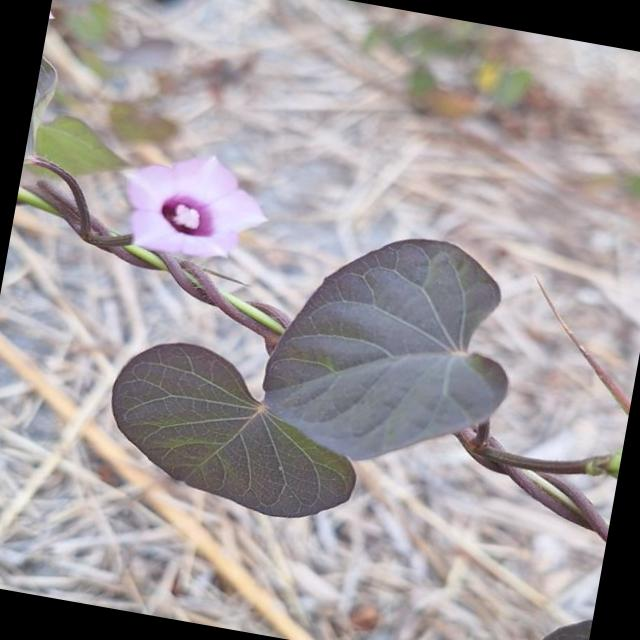ipomoea: (105, 138, 278, 275)
